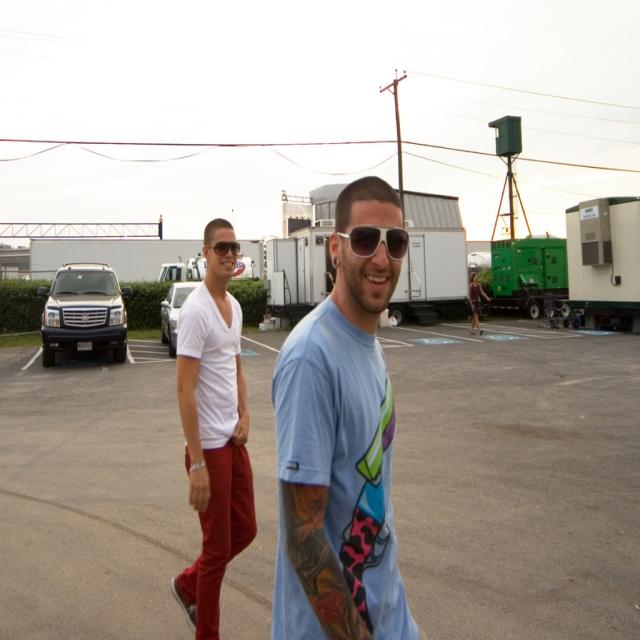car: (36, 265, 126, 368)
